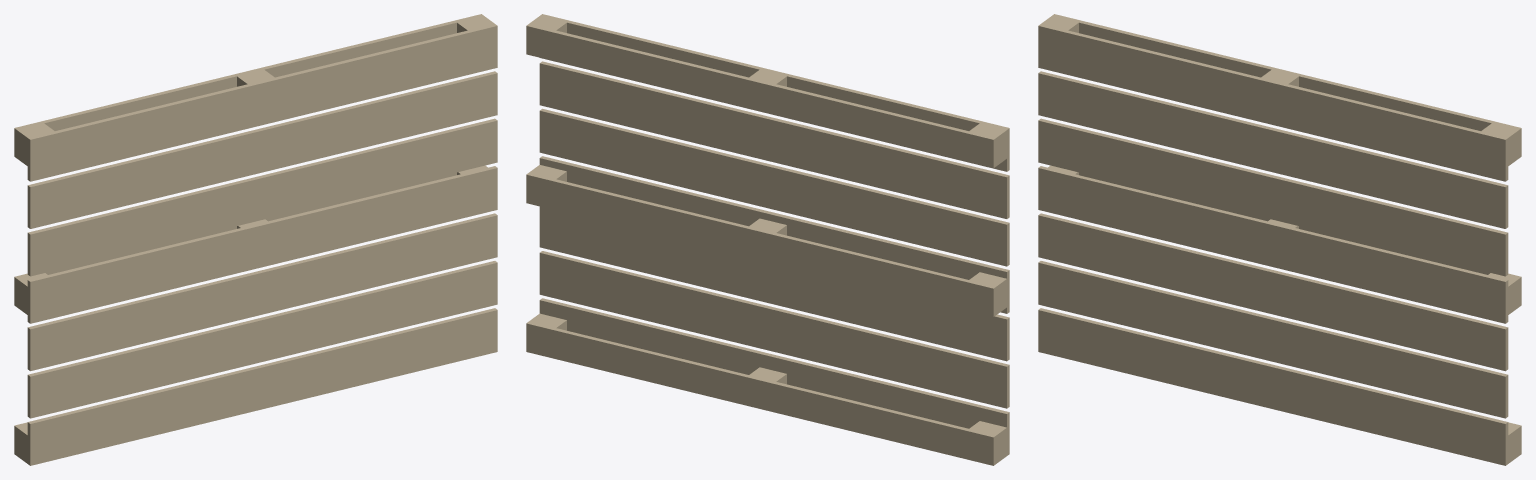
Rendered from palletdescartablenuevo.glb.
3 views of the same model, side by side, from view 1: azimuth 30°, elevation 25°; view 2: azimuth 150°, elevation 25°; view 3: azimuth 330°, elevation 25° (orthographic).
Visible parts, largest first — view 1: world; view 2: world; view 3: world.
Part boxes in pixels (x1,y1,x2,y2): world: (14, 14, 497, 465); world: (526, 14, 1009, 465); world: (1038, 14, 1521, 465).
Bounding box in the file's own units: 1.2 × 0.8 × 0.072.
